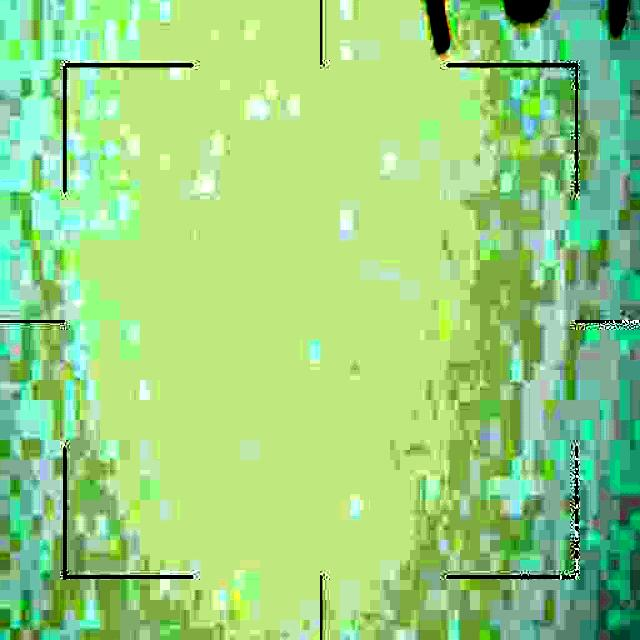bird: (365, 0, 640, 52)
